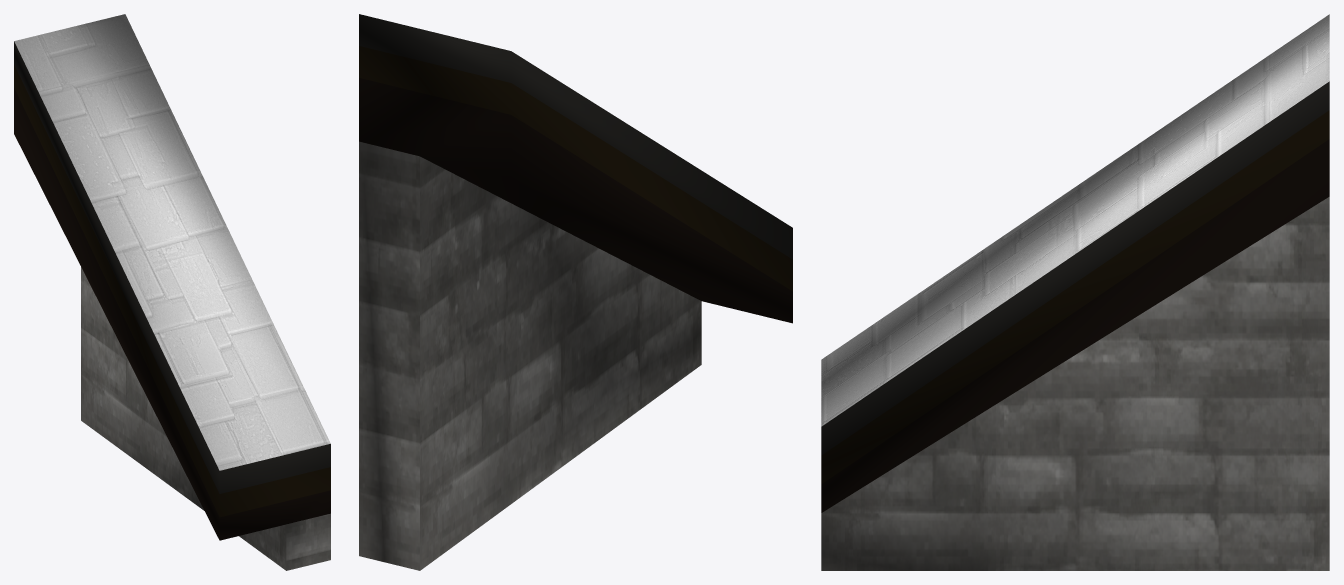
The picture shows the model from 3 angles, left to right: view 1: azimuth 30°, elevation 25°; view 2: azimuth 150°, elevation 25°; view 3: azimuth 270°, elevation 25°; orthographic projection. The views are drawn at different scales.
Parts seen in each view (by area): view 1: 5472; view 2: 5472; view 3: 5472.
Boxes of the visible parts, <box> form: 5472: <box>14,14,330,570</box>; 5472: <box>359,14,792,570</box>; 5472: <box>821,14,1329,570</box>.
Bounding box in the file's own units: 0.4 × 1.36 × 1.28.
Materials: 3 (2 with a texture image).
